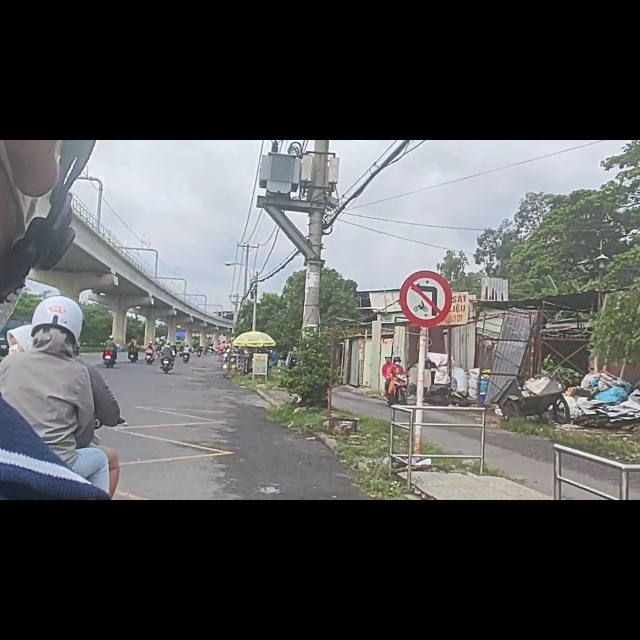bien_cam: (398, 231, 453, 334)
